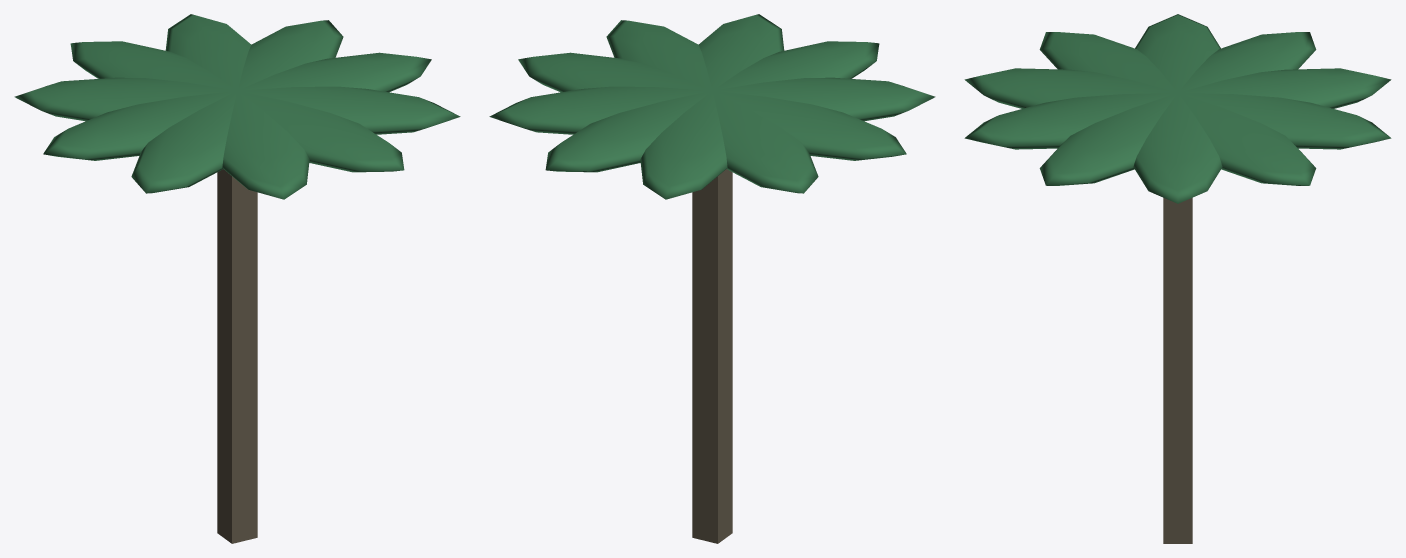
The model's file is palm.glb.
3 renders of one model, left to right at view 1: azimuth 30°, elevation 25°; view 2: azimuth 150°, elevation 25°; view 3: azimuth 270°, elevation 25°, orthographic.
Visible parts, largest first — view 1: Palm; view 2: Palm; view 3: Palm.
Boxes of the visible parts, x1,y1,x2,y2 form: Palm: (14,14,460,543); Palm: (489,14,935,543); Palm: (964,14,1391,543).
Bounding box in the file's own units: 7.6 × 8.3 × 7.23.
